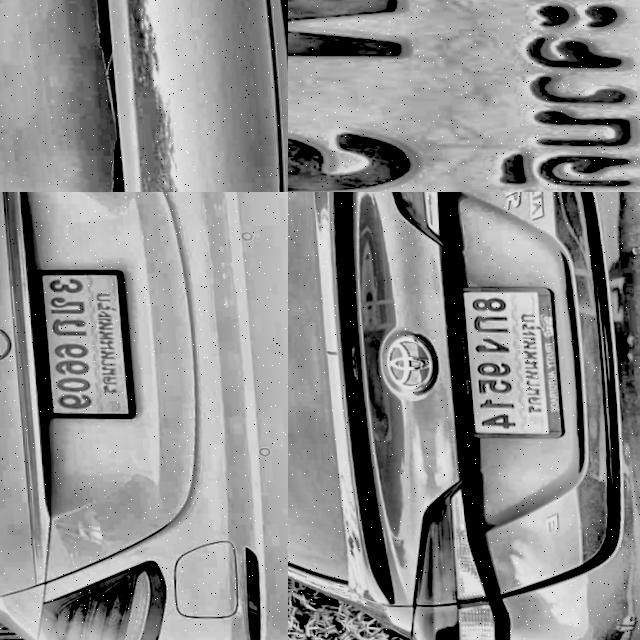license-plate: (288, 0, 640, 192), (441, 282, 559, 441), (29, 264, 129, 416)
